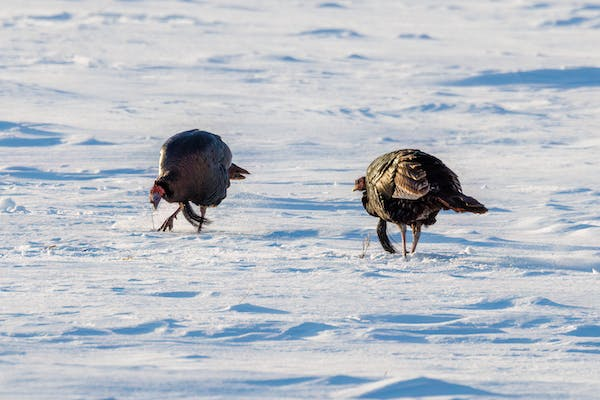Walking: (318, 118, 500, 278), (114, 116, 257, 261)
